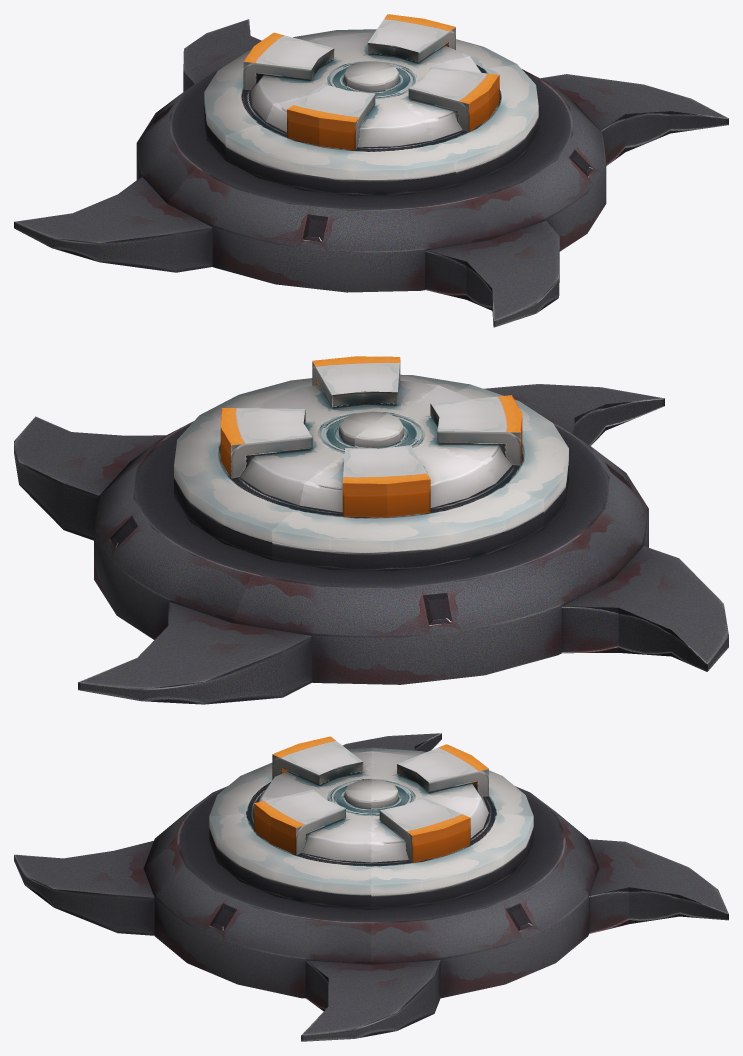
Rendered from maichongzhadan.FBX.
3 renders of one model, top to bottom at view 1: azimuth 30°, elevation 25°; view 2: azimuth 150°, elevation 25°; view 3: azimuth 270°, elevation 25°, orthographic. The views are drawn at different scales.
Parts seen in each view (by area): view 1: polySurface306; view 2: polySurface306; view 3: polySurface306.
Part boxes in pixels (x1=…): polySurface306: x1=14, y1=14, x2=728, y2=327; polySurface306: x1=14, y1=356, x2=728, y2=704; polySurface306: x1=14, y1=733, x2=728, y2=1041.
Bounding box in the file's own units: 0.2012 × 0.0374 × 0.2012.
